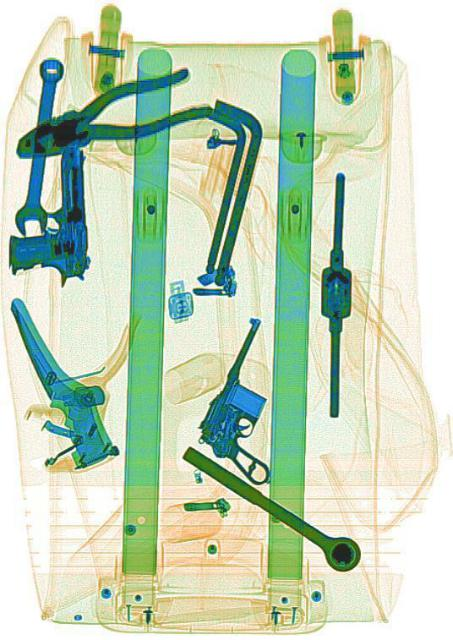Gun: (192, 310, 319, 488), (3, 142, 88, 288)
Pliers: (9, 58, 210, 178)
Wrench: (10, 54, 64, 236)
